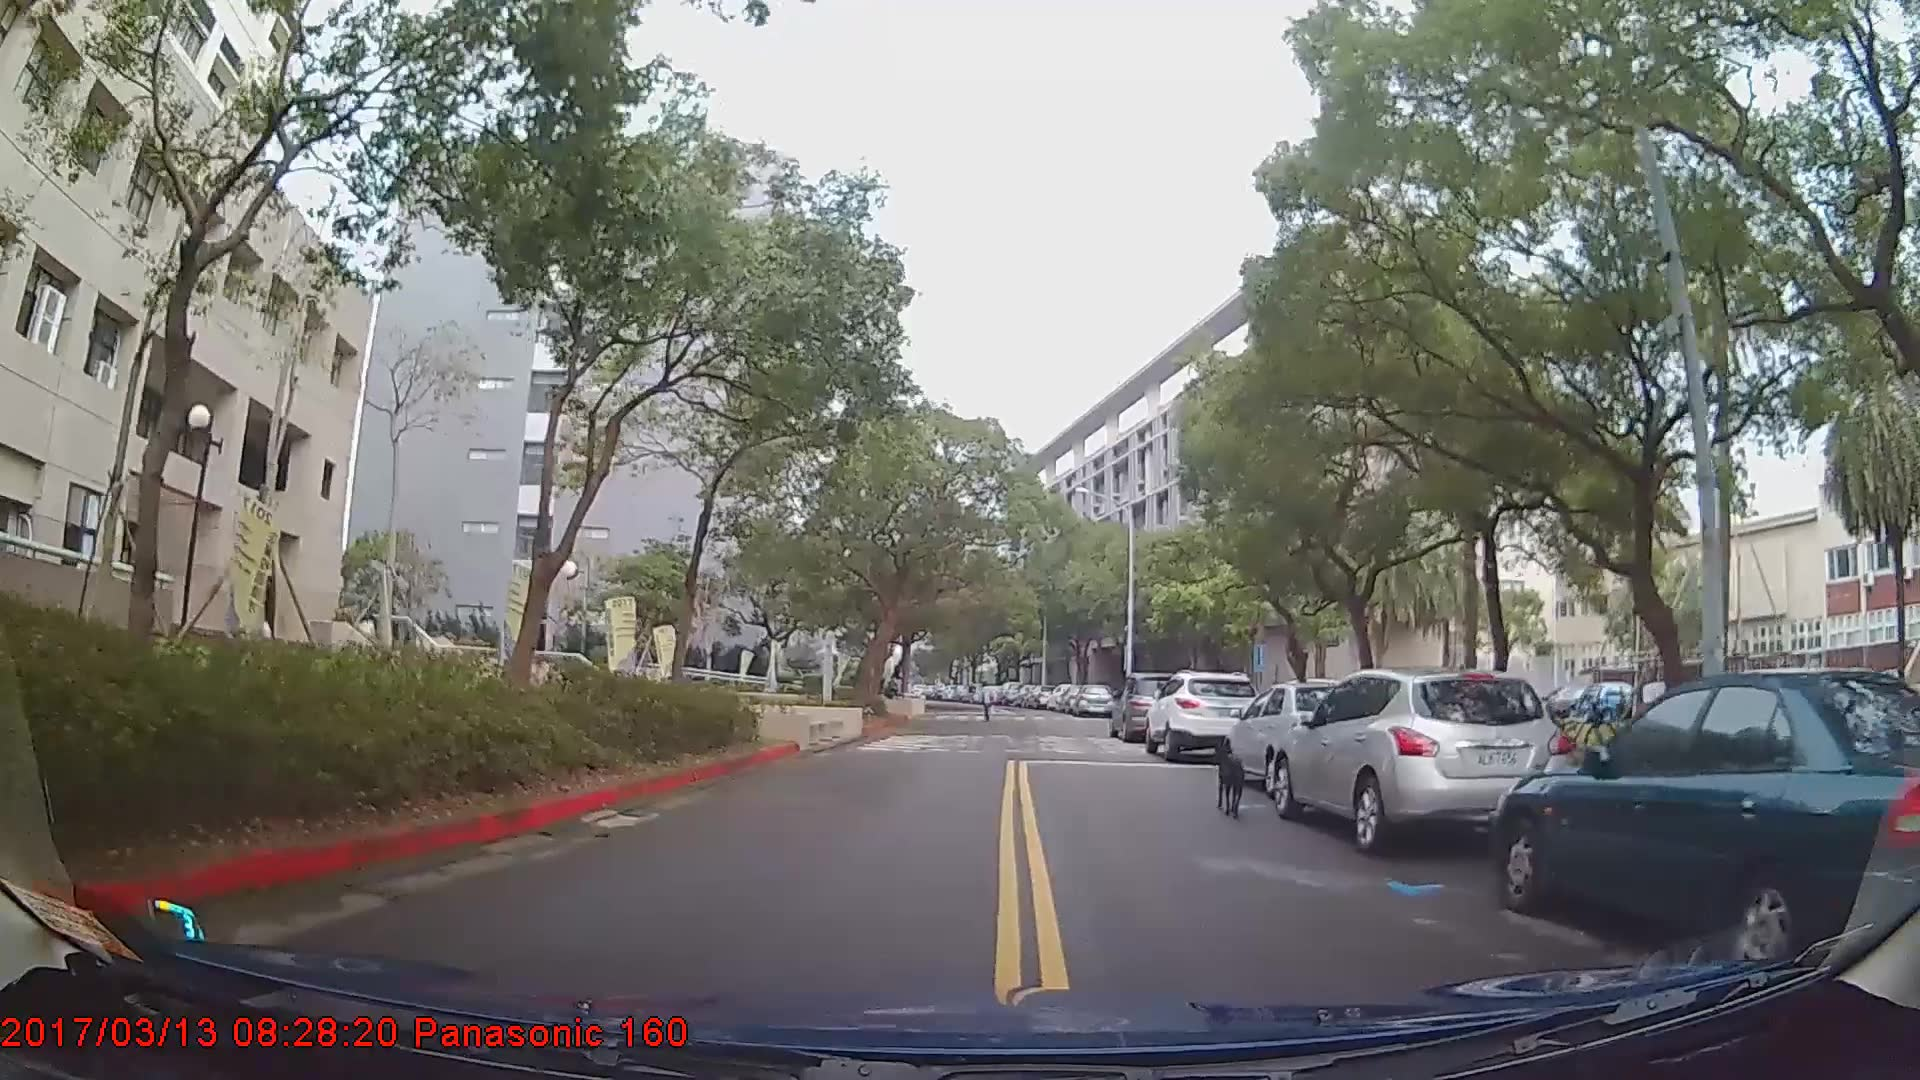pedestrian: (978, 685, 998, 727)
vehicle: (1498, 671, 1920, 976), (1273, 668, 1578, 854), (1221, 677, 1377, 798), (1147, 669, 1267, 762), (1109, 671, 1199, 741), (1073, 679, 1113, 714)
